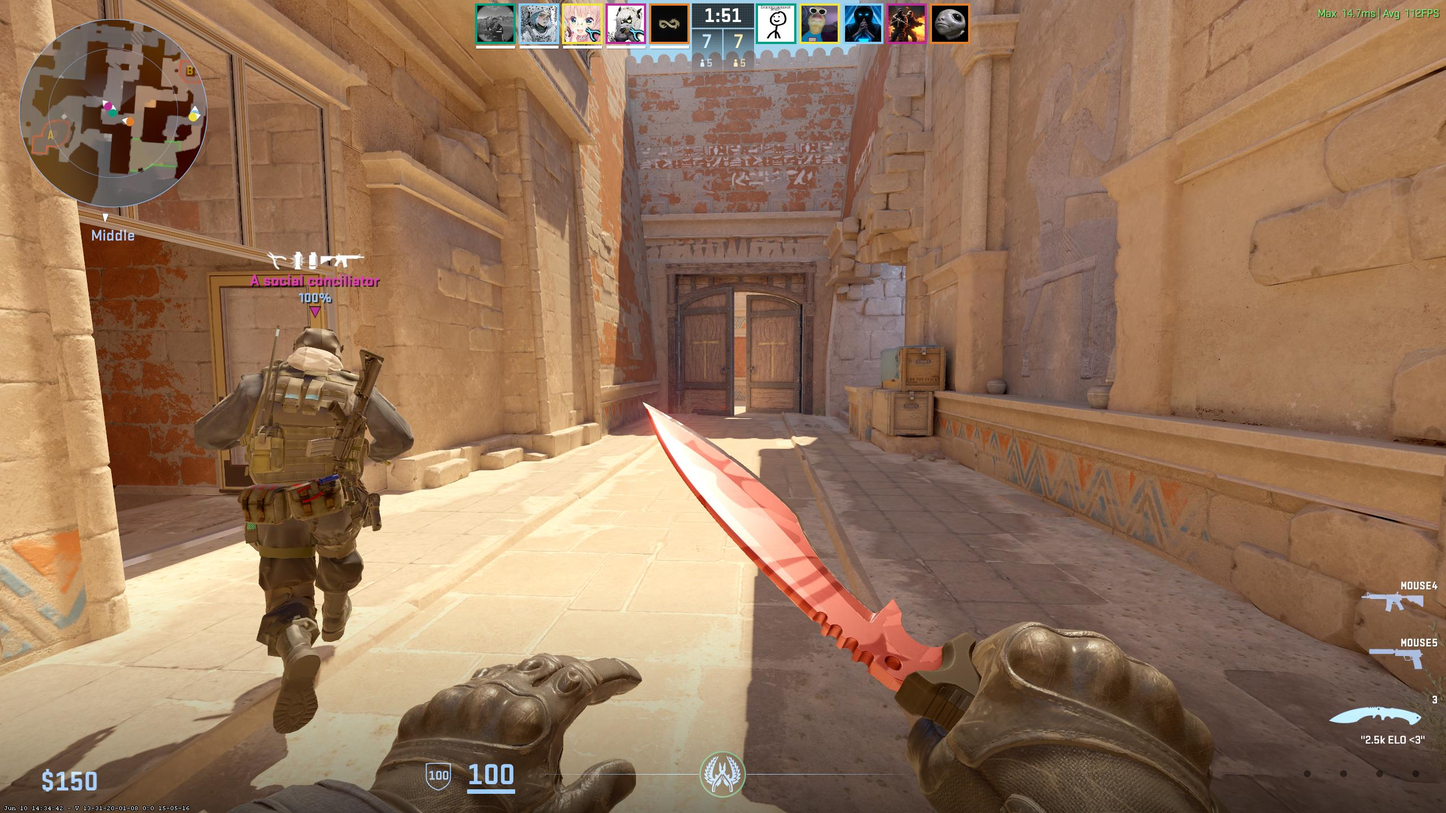CT: (190, 324, 419, 702)
